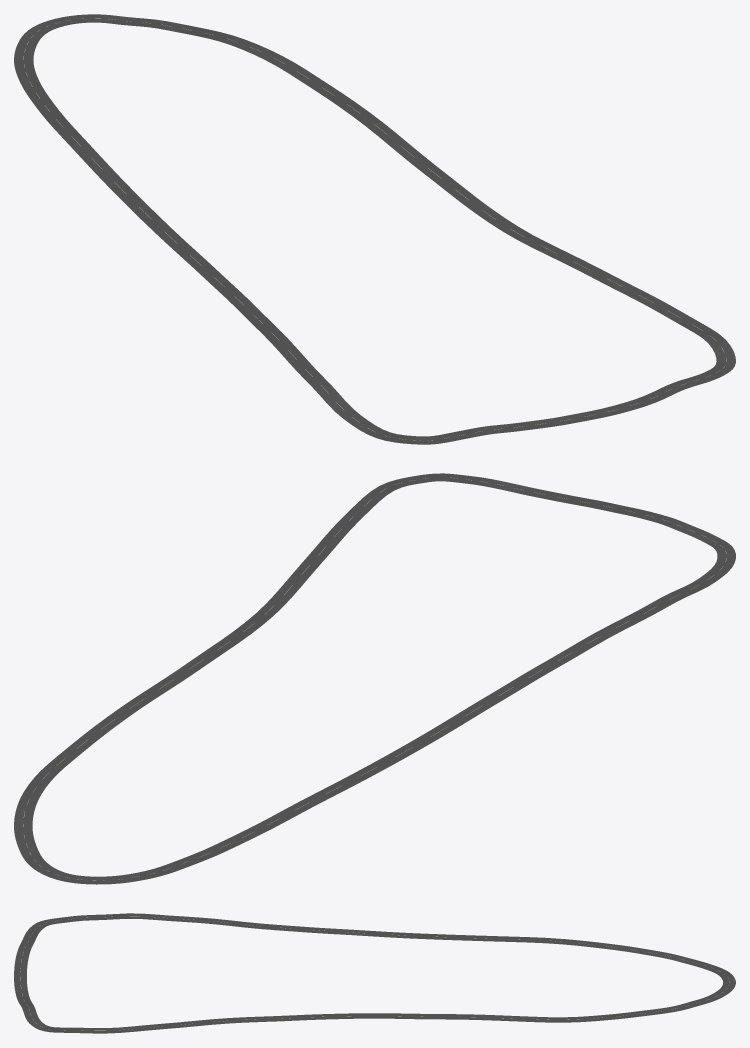
Rendered from road.glb.
3 renders of one model, top to bottom at view 1: azimuth 30°, elevation 25°; view 2: azimuth 150°, elevation 25°; view 3: azimuth 270°, elevation 25°, orthographic. The views are drawn at different scales.
Parts seen in each view (by area): view 1: Lakeside_Road; view 2: Lakeside_Road; view 3: Lakeside_Road.
Boxes of the visible parts, x1,y1,x2,y2 form: Lakeside_Road: (14,14,735,444); Lakeside_Road: (14,473,735,884); Lakeside_Road: (14,913,735,1033).
Bounding box in the file's own units: 159 × 4.33 × 410.
Materials: 2 (1 with a texture image).
